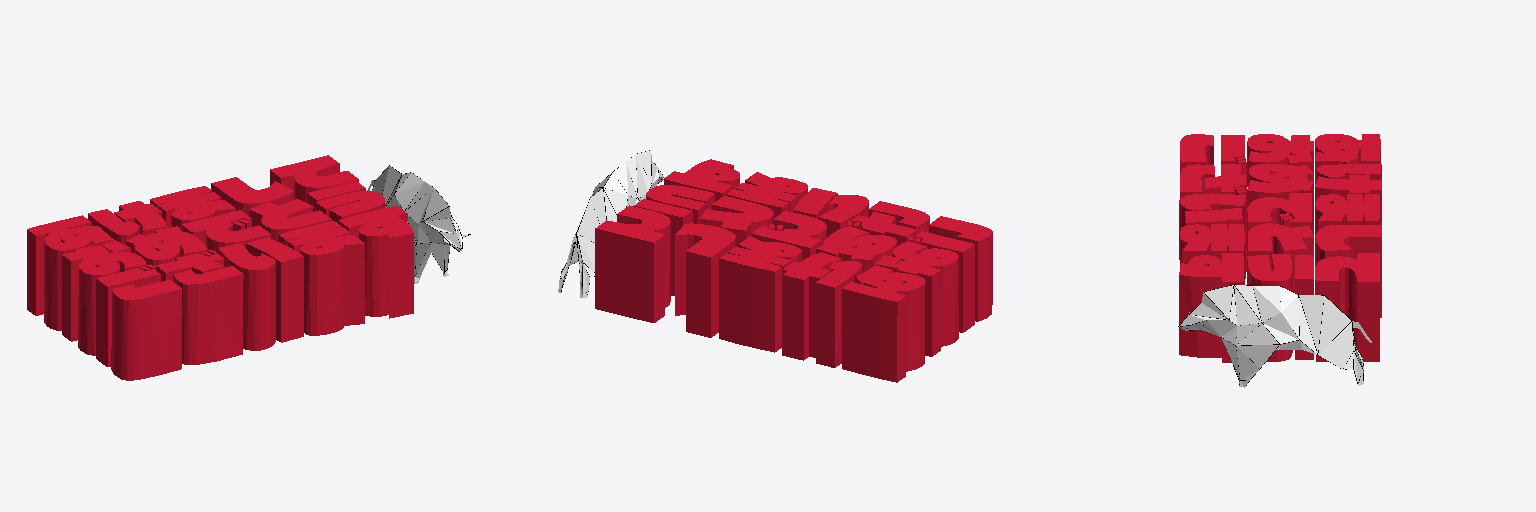
Rendered from nengajo.obj.
3 renders of one model, left to right at view 1: azimuth 30°, elevation 25°; view 2: azimuth 150°, elevation 25°; view 3: azimuth 270°, elevation 25°, orthographic.
Parts seen in each view (by area): view 1: ポリゴンリダクション.1; view 2: ポリゴンリダクション.1; view 3: ポリゴンリダクション.1.
Boxes of the visible parts, x1,y1,x2,y2 form: ポリゴンリダクション.1: [27, 155, 470, 380]; ポリゴンリダクション.1: [558, 150, 992, 382]; ポリゴンリダクション.1: [1178, 134, 1381, 387].
Bounding box in the file's own units: 56.38 × 14.09 × 27.48.